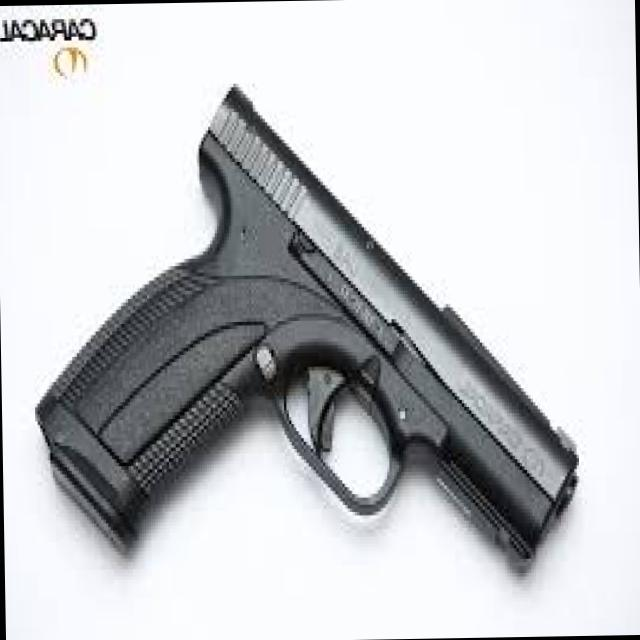Gun: (11, 56, 586, 600)
